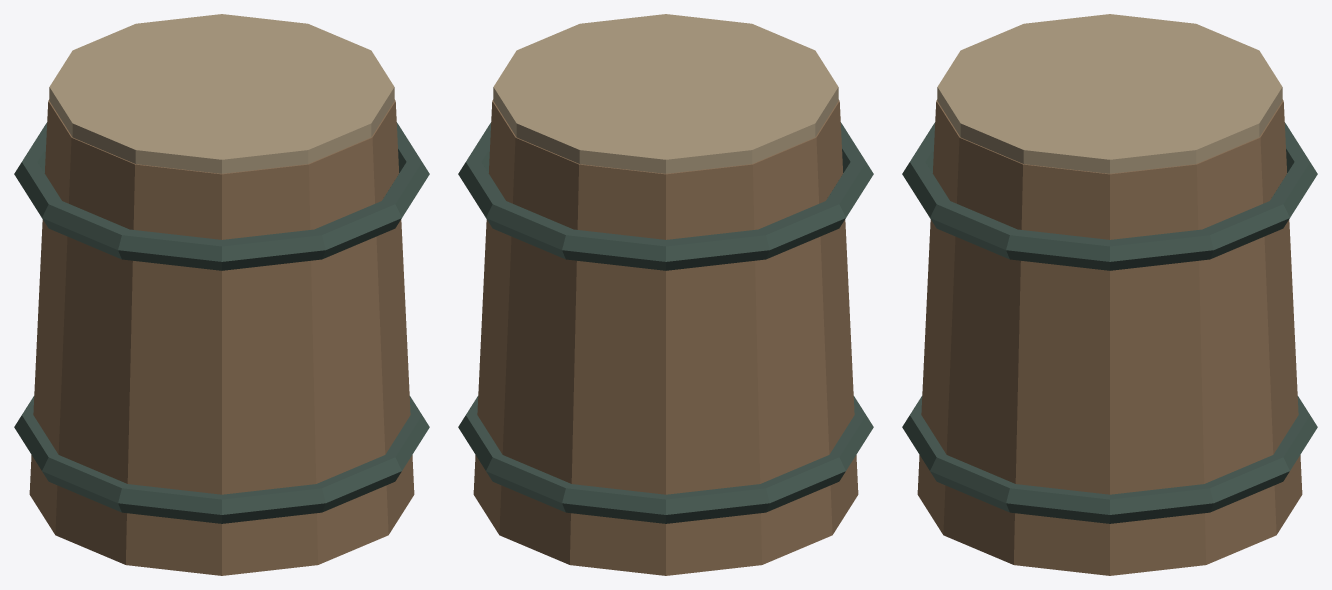
File: qc_barrel.obj
The picture shows the model from 3 angles, left to right: view 1: azimuth 30°, elevation 25°; view 2: azimuth 150°, elevation 25°; view 3: azimuth 270°, elevation 25°; orthographic projection.
Parts seen in each view (by area): view 1: qc_barrel; view 2: qc_barrel; view 3: qc_barrel.
Boxes of the visible parts, <box> form: qc_barrel: <box>14,14,429,575</box>; qc_barrel: <box>458,14,873,575</box>; qc_barrel: <box>902,14,1317,575</box>.
Bounding box in the file's own units: 0.67 × 0.725 × 0.67.
